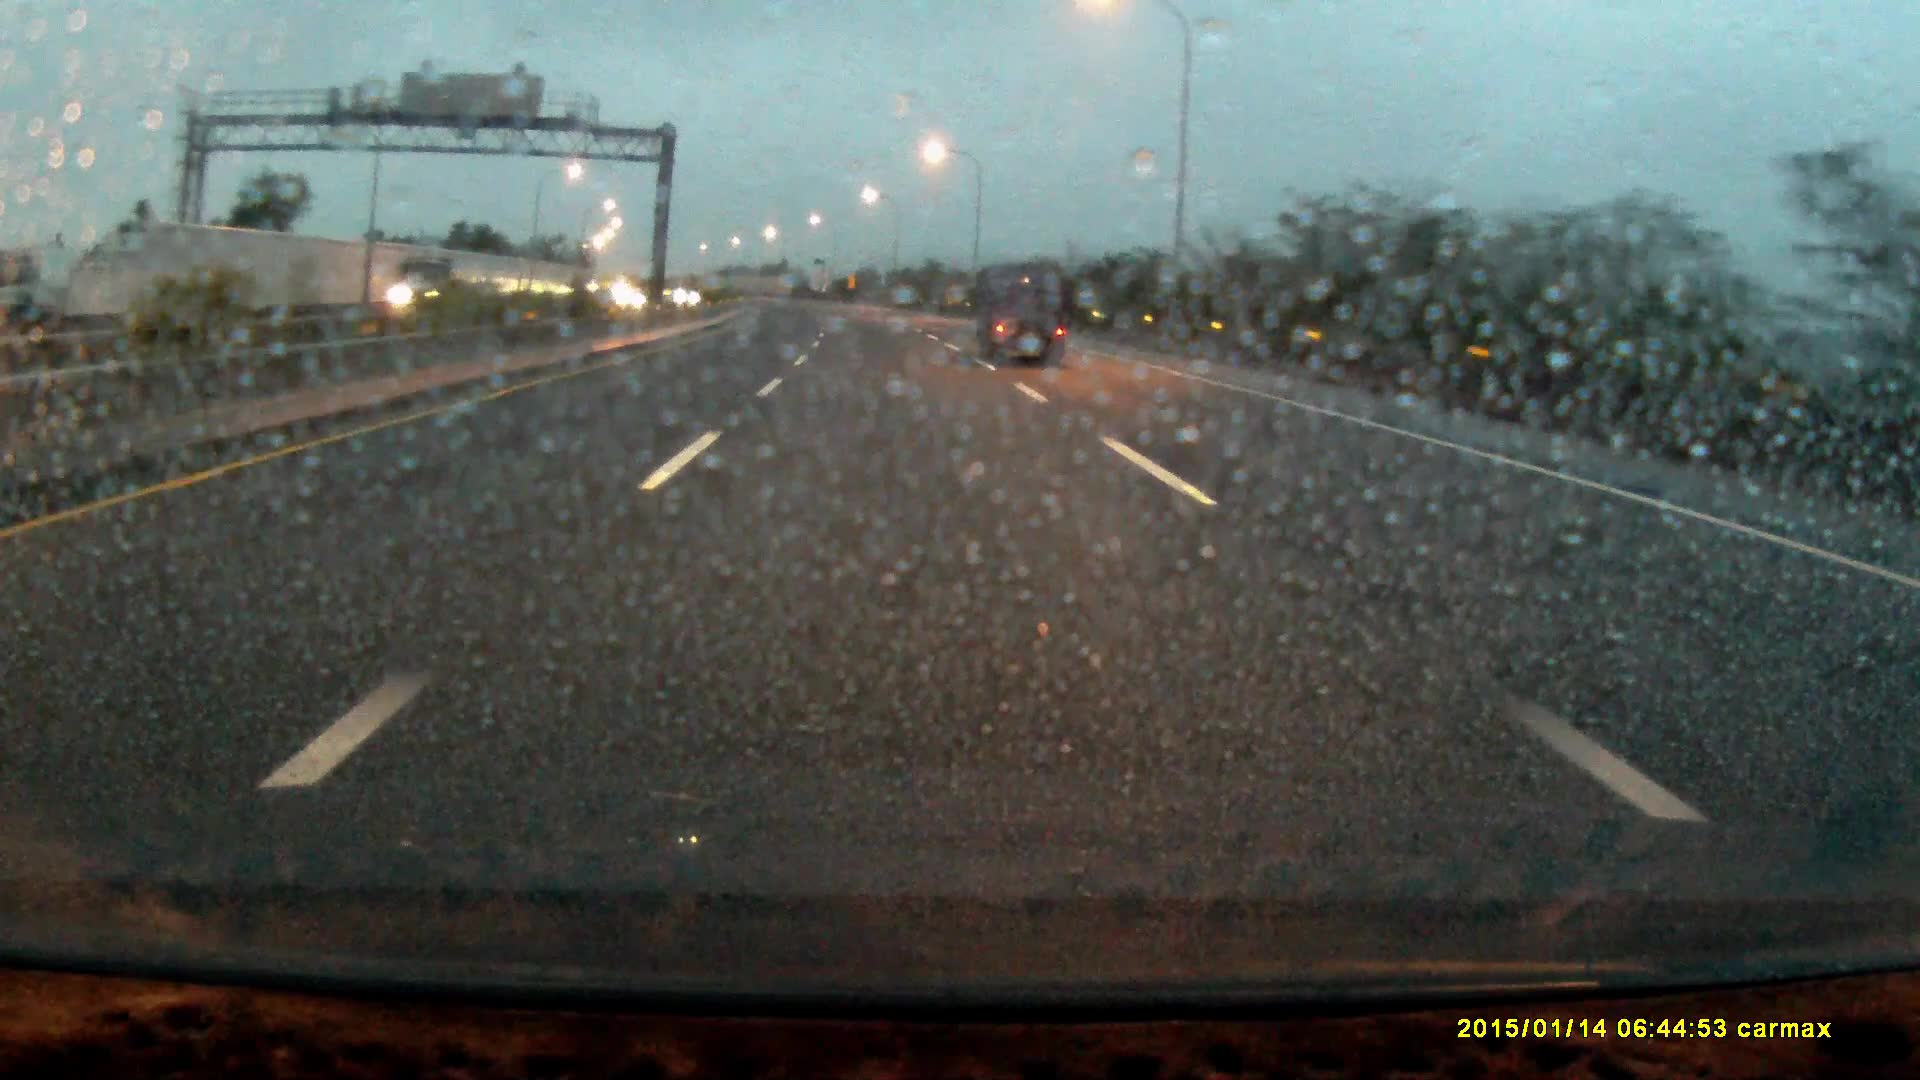vehicle: (978, 269, 1065, 365), (389, 255, 502, 319)
